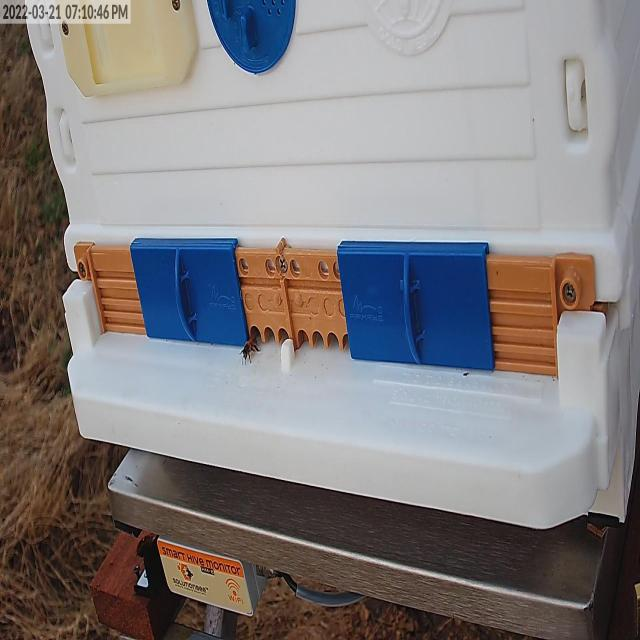honeybee: (231, 310, 263, 379)
